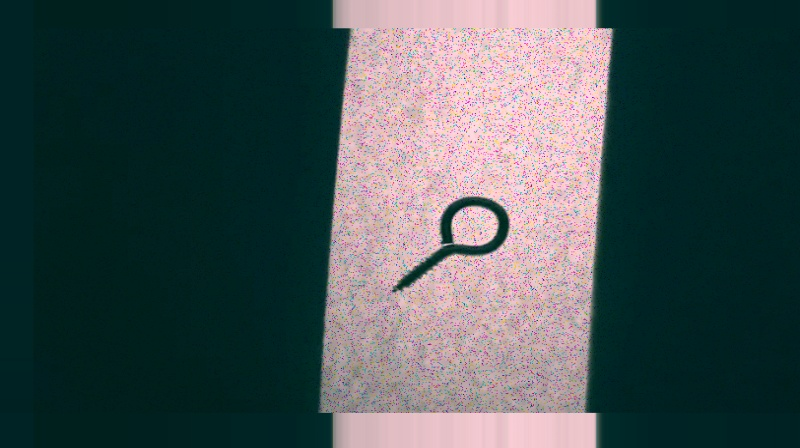O001: (382, 193, 514, 293)
